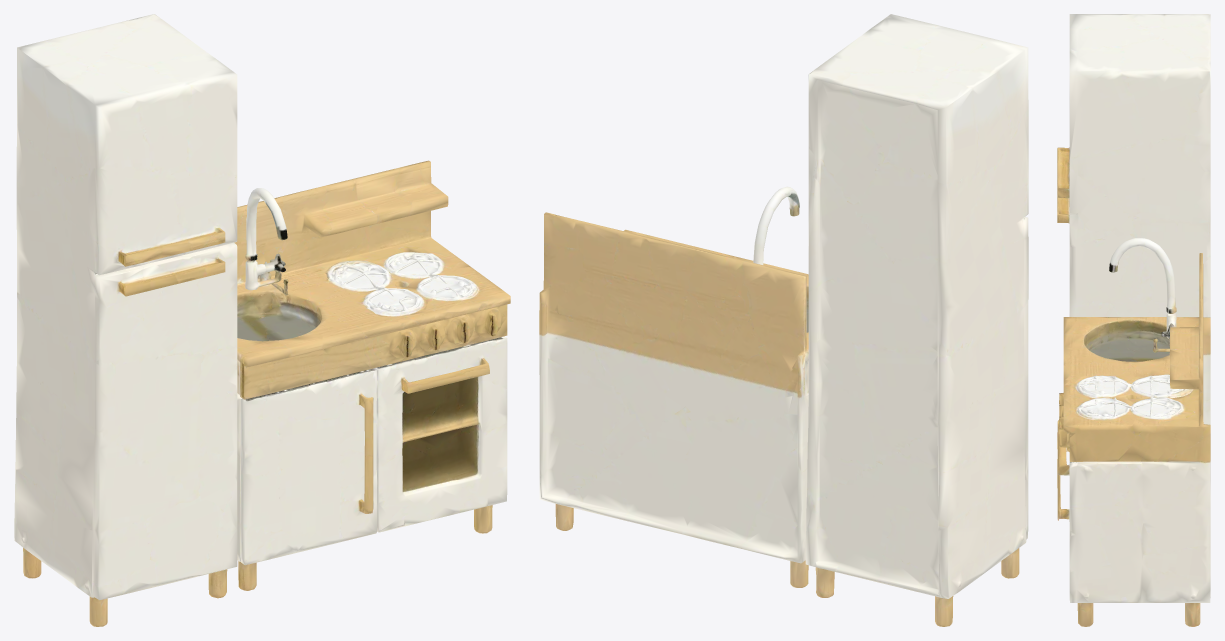
Rendered from Meshy_AI_Wooden_Play_Kitchen_0829135913_texture.glb.
3 views of the same model, side by side, from view 1: azimuth 30°, elevation 25°; view 2: azimuth 150°, elevation 25°; view 3: azimuth 270°, elevation 25° (orthographic). The views are drawn at different scales.
Visible parts, largest first — view 1: Mesh_0; view 2: Mesh_0; view 3: Mesh_0.
Part boxes in pixels (x1,y1,x2,y2): Mesh_0: [14, 14, 510, 626]; Mesh_0: [539, 14, 1028, 626]; Mesh_0: [1057, 14, 1210, 626].
Size of the model in its own units: 0.0989 by 0.12 by 0.0373.
1 material, 1 textured.
